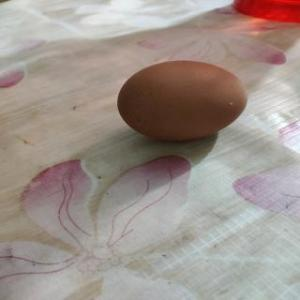egg: (115, 59, 250, 146)
